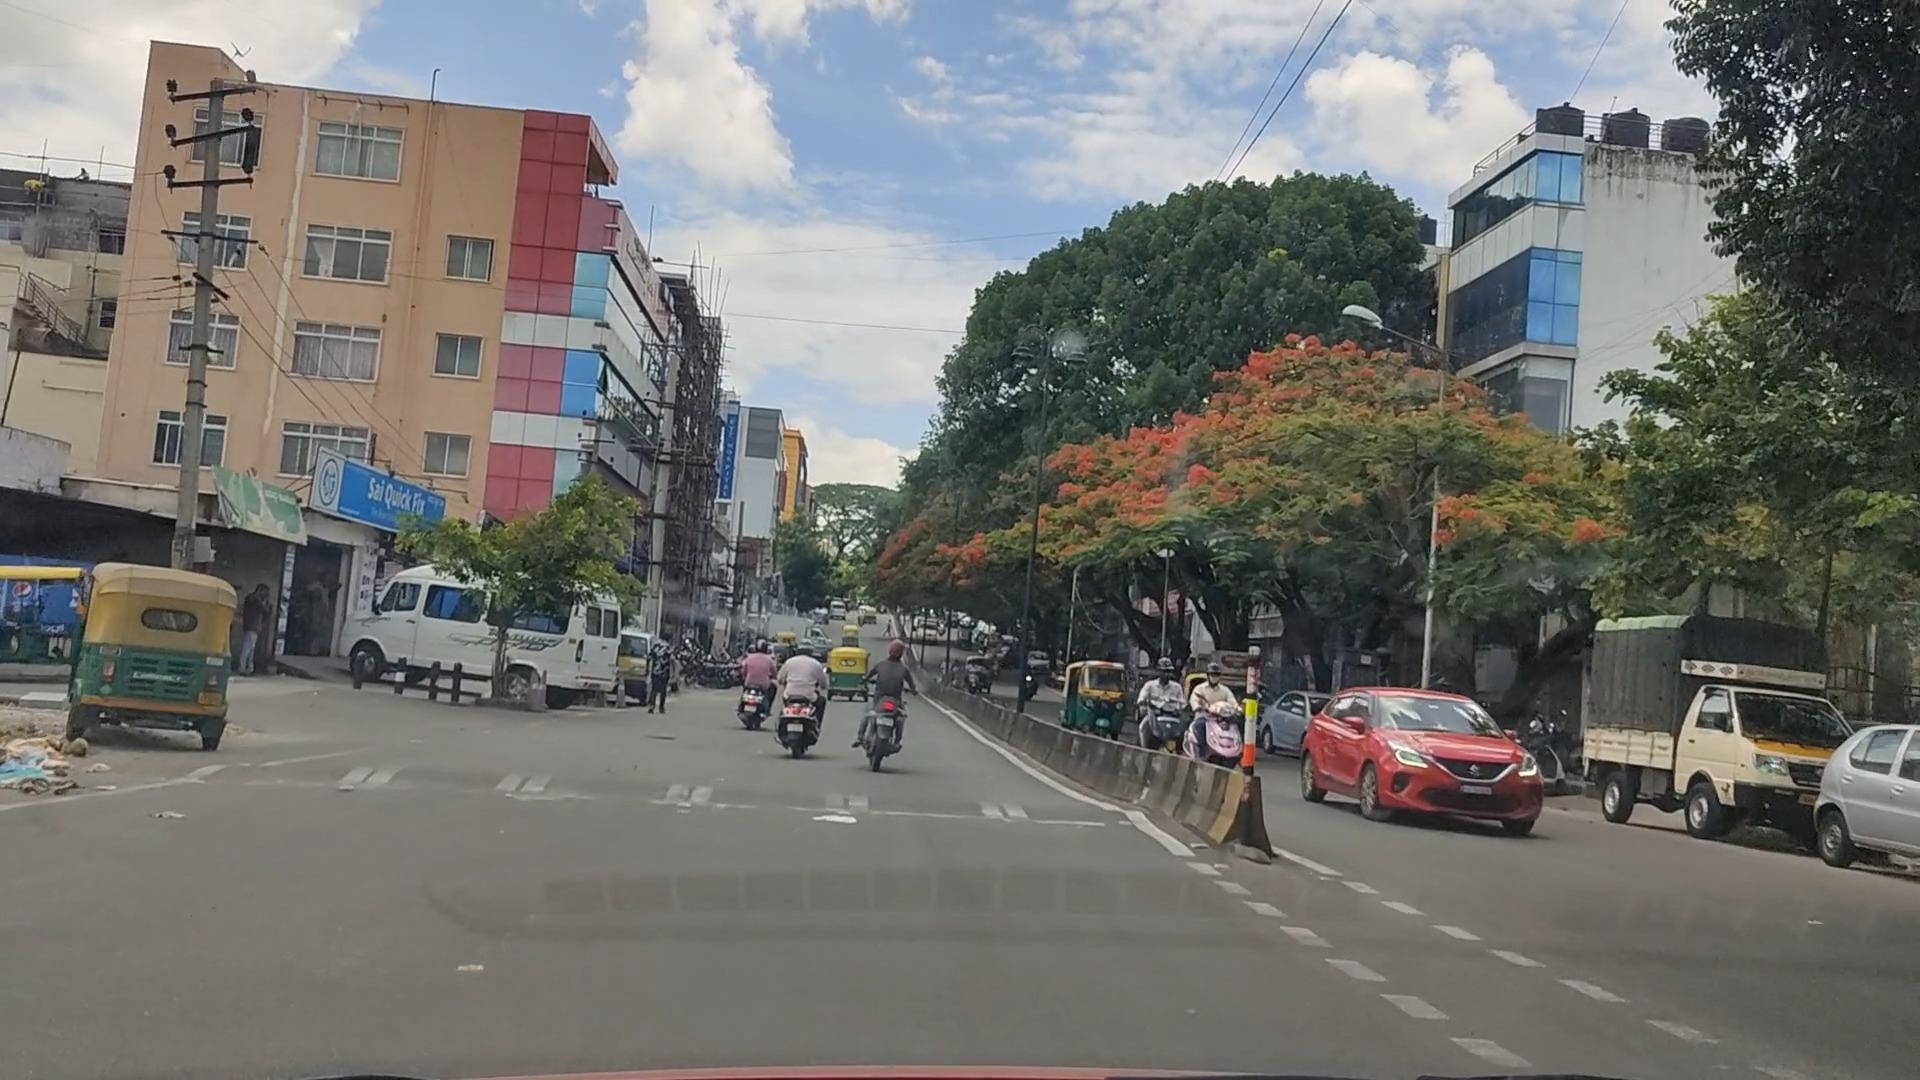SpeedBump: (200, 758, 1129, 836)
